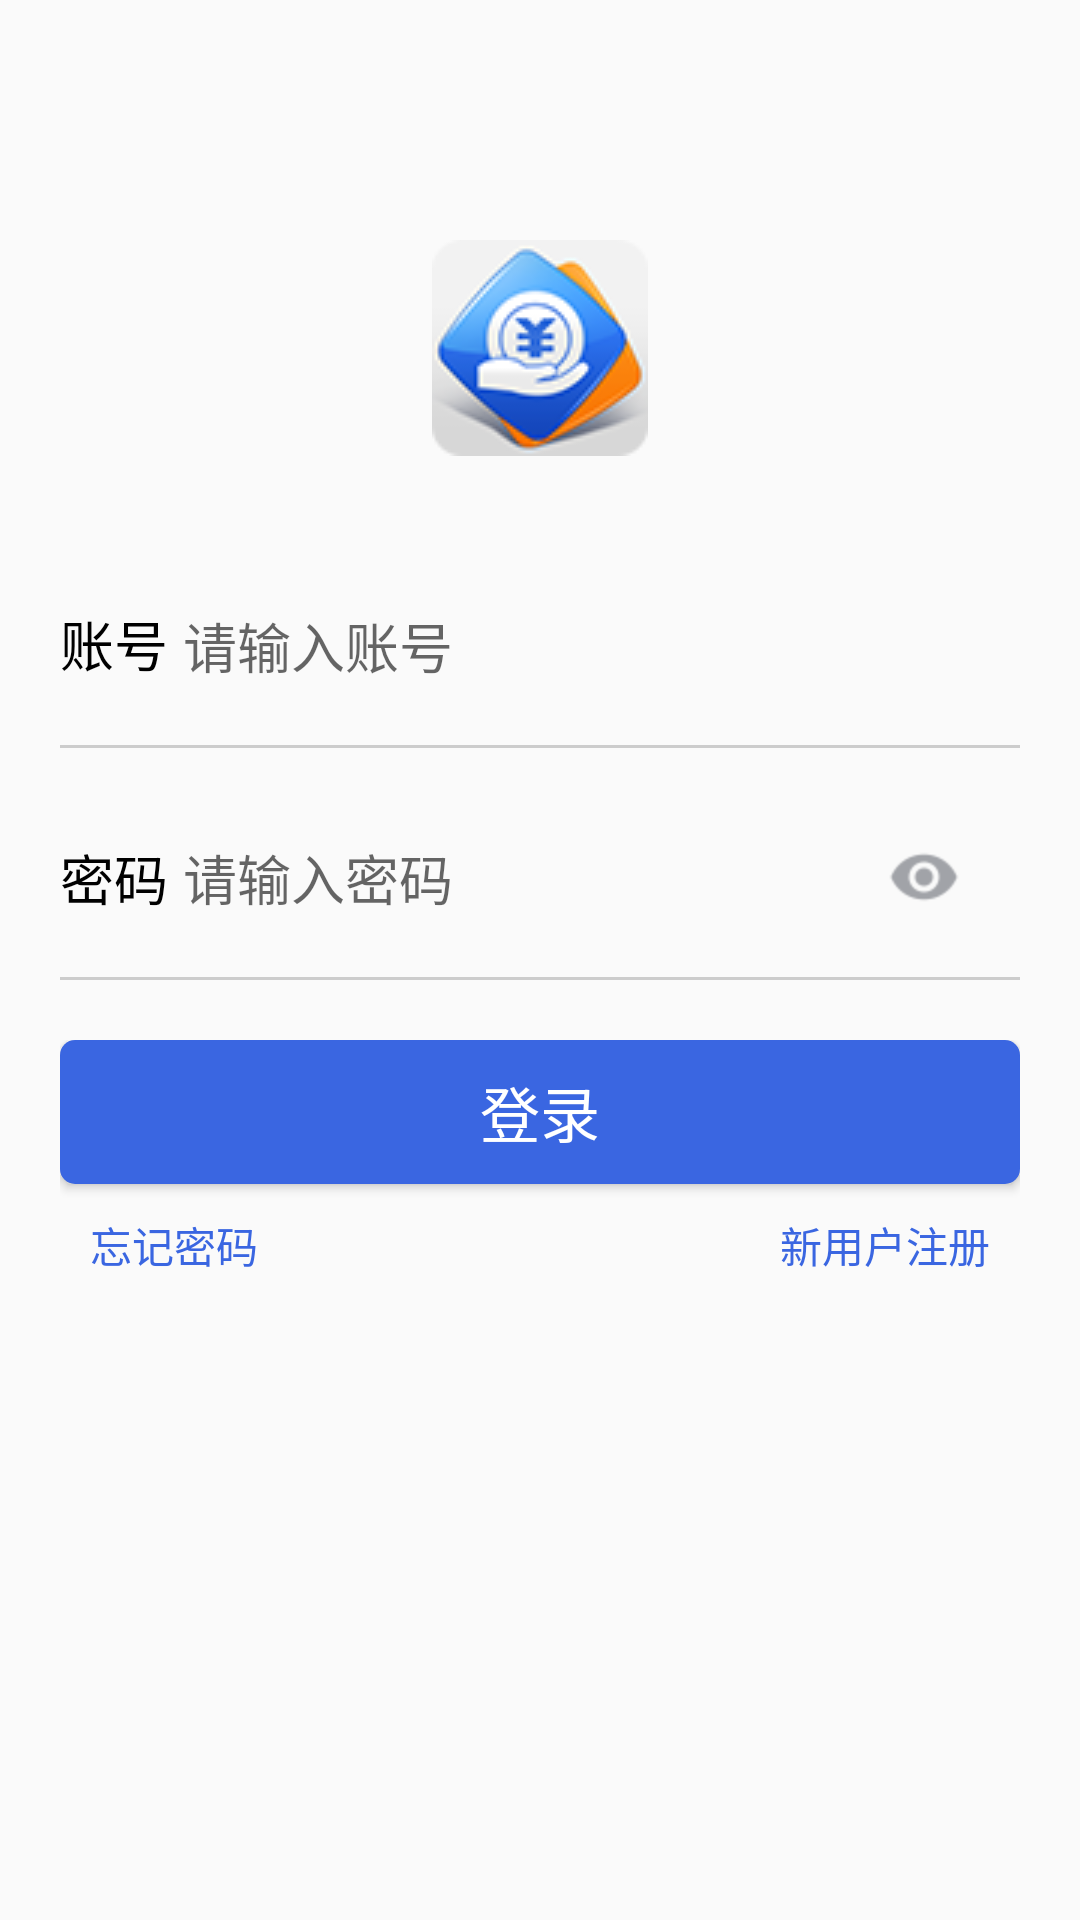

Screen size 1080×1920. Icon name, then its center in pixels as (x=x, y=y):
visibility: (x=924, y=877)
